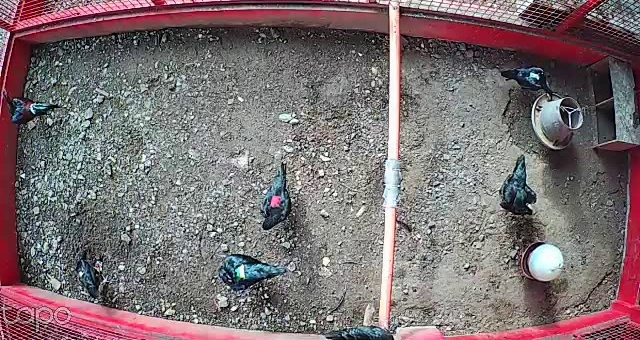Chicken: (214, 248, 291, 291), (497, 56, 555, 104), (499, 157, 544, 217), (262, 159, 297, 228), (77, 254, 119, 299), (324, 321, 395, 340)
Saddle_Color_Red: (268, 195, 283, 206)
Saddle_Color_YellowGreen: (234, 266, 246, 280)
